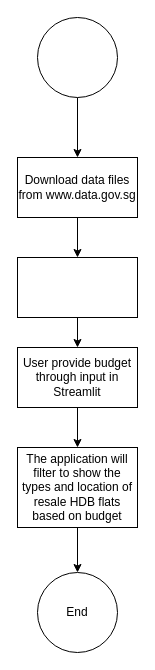
This 155x670 diagram has some shape labels left out. The centre of each missing label's shape, as x and y in pixels:
"Start" belongs at point (77, 57).
"Upload the CSV file using pandas in Github" belongs at point (77, 287).
